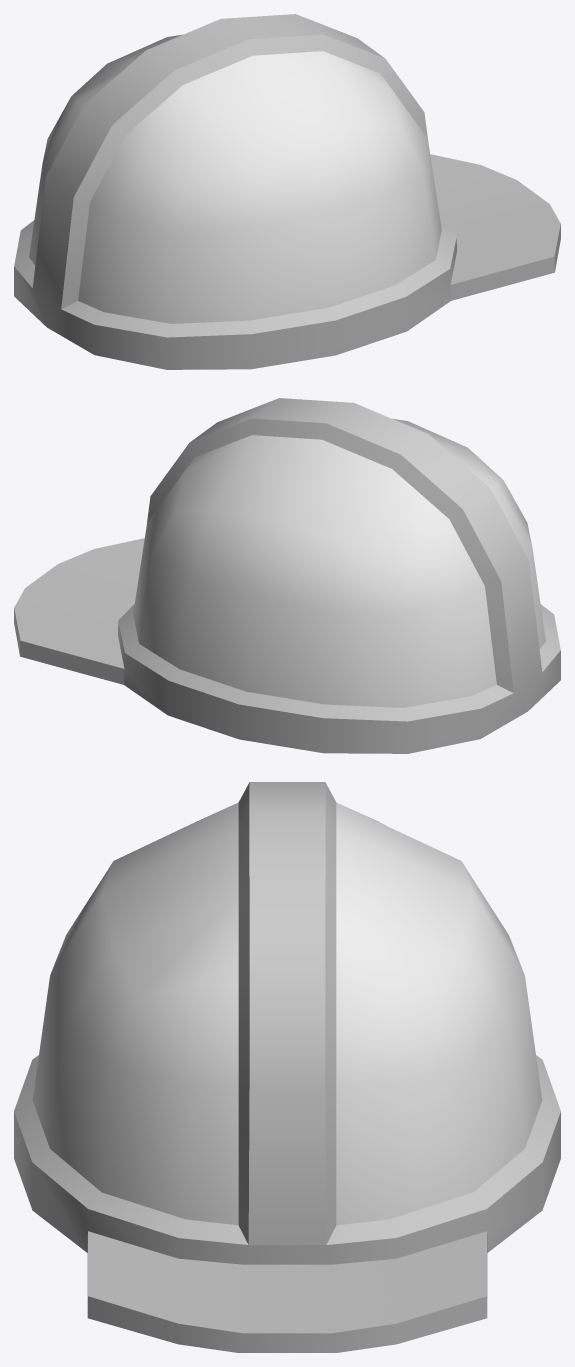
The model's file is Helmet_1_2.fbx.
The picture shows the model from 3 angles, top to bottom: view 1: azimuth 30°, elevation 25°; view 2: azimuth 150°, elevation 25°; view 3: azimuth 270°, elevation 25°; orthographic projection. The views are drawn at different scales.
Visible parts, largest first — view 1: Helmet_1_2; view 2: Helmet_1_2; view 3: Helmet_1_2.
Boxes of the visible parts, bbox=[...] form: Helmet_1_2: bbox=[14, 14, 560, 369]; Helmet_1_2: bbox=[14, 398, 560, 753]; Helmet_1_2: bbox=[14, 782, 560, 1352].
Bounding box in the file's own units: 71.35 × 35.46 × 51.02.
